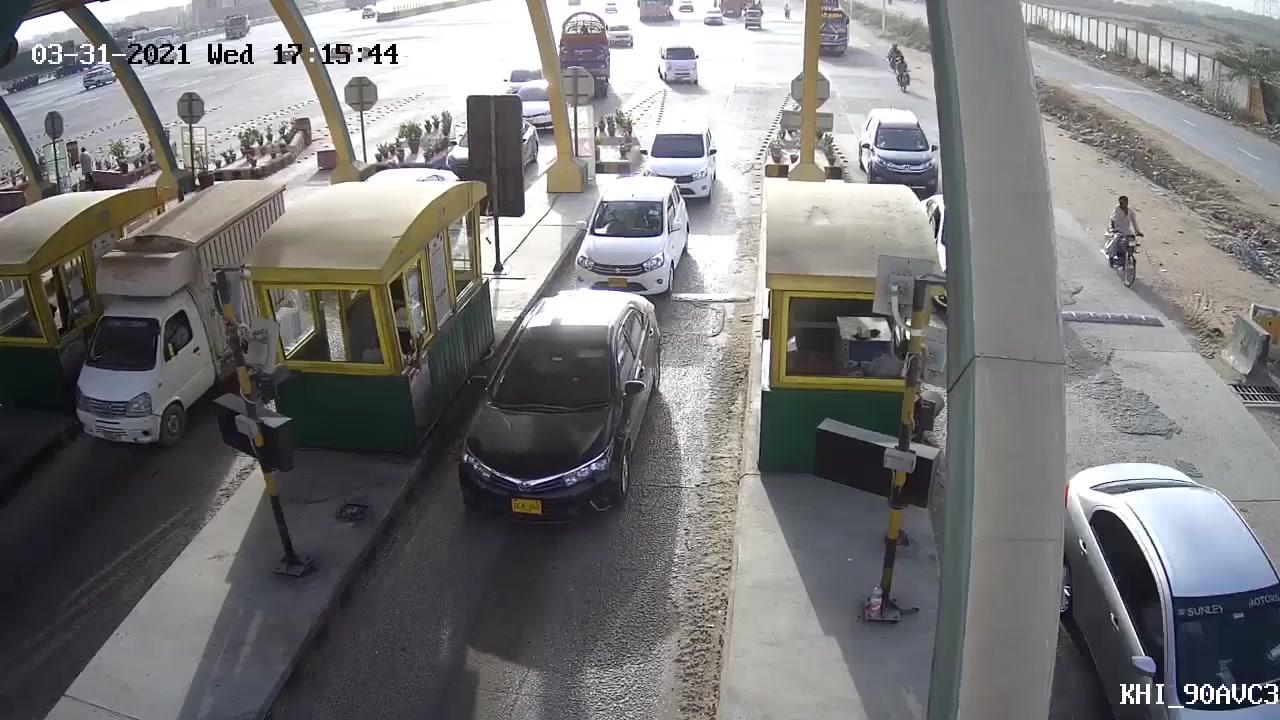F1: (452, 286, 665, 530), (562, 174, 694, 298)
